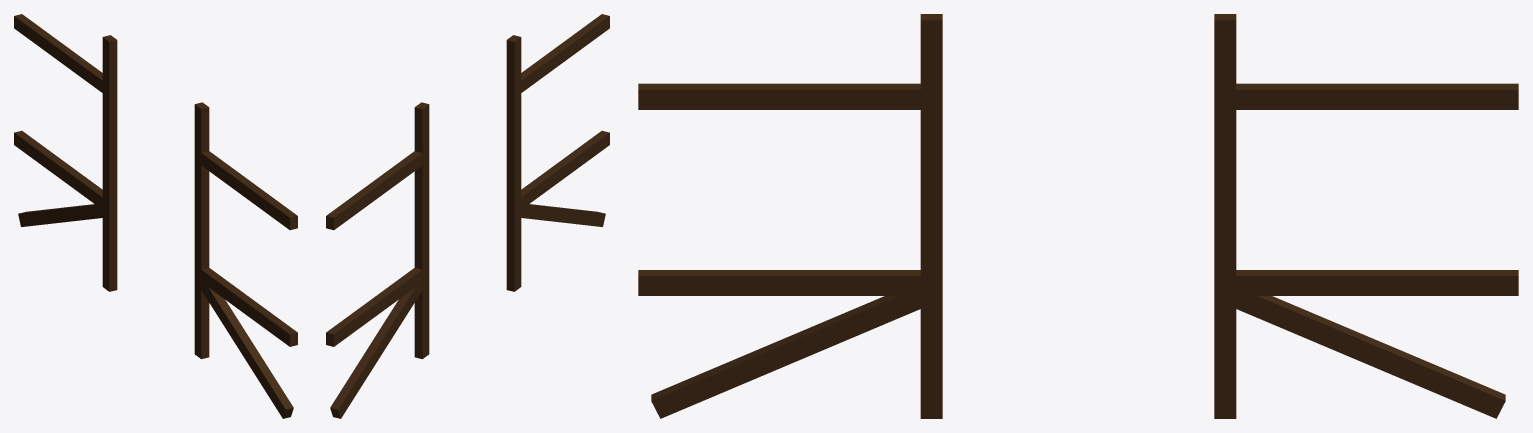
The model's file is Small Side 3 Door.fbx.
3 renders of one model, left to right at view 1: azimuth 30°, elevation 25°; view 2: azimuth 150°, elevation 25°; view 3: azimuth 270°, elevation 25°, orthographic. The views are drawn at different scales.
Visible parts, largest first — view 1: House_Small_Side_3; view 2: House_Small_Side_3; view 3: House_Small_Side_3.
Boxes of the visible parts, left/top/right/bottom form: House_Small_Side_3: left=14, top=14, right=297, bottom=418; House_Small_Side_3: left=326, top=14, right=609, bottom=418; House_Small_Side_3: left=638, top=14, right=1518, bottom=418.
Size of the model in its own units: 0.1 by 3 by 6.
